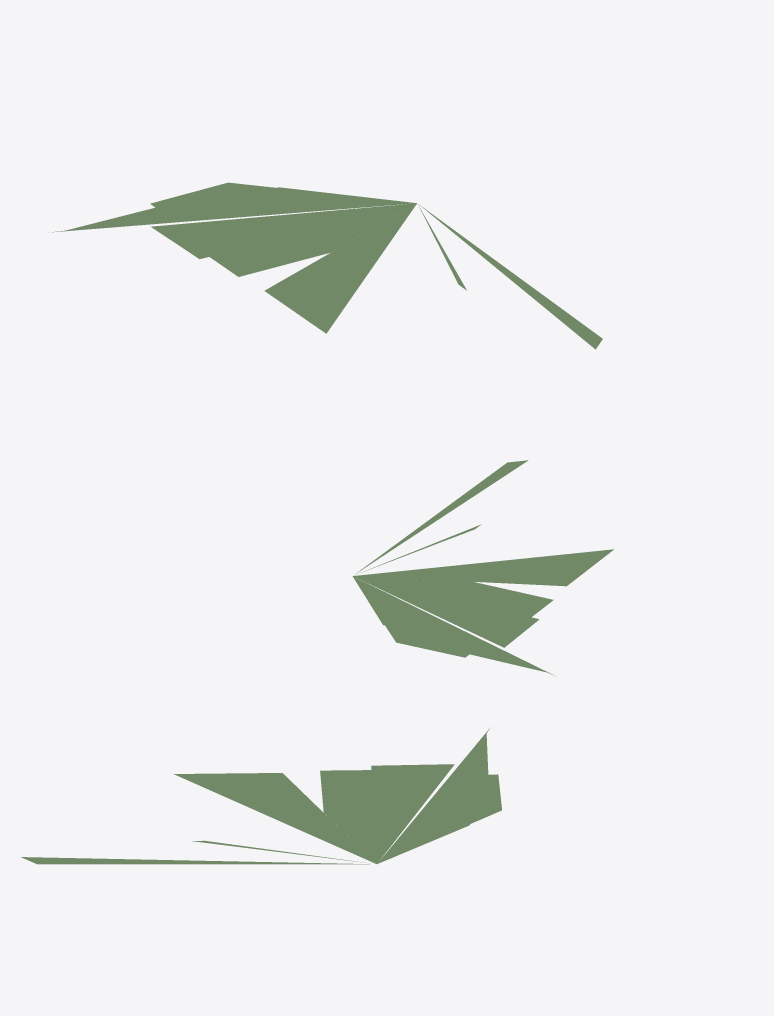
File: c_1644_17816_parks.glb
3 views of the same model, one above another, from view 1: azimuth 30°, elevation 25°; view 2: azimuth 150°, elevation 25°; view 3: azimuth 270°, elevation 25° (orthographic). The views are drawn at different scales.
Parts seen in each view (by area): view 1: geometry_0; view 2: geometry_0; view 3: geometry_0.
Part boxes in pixels (box(x1,y1,x2,y2)): geometry_0: box(49, 182, 602, 349); geometry_0: box(352, 460, 613, 675); geometry_0: box(21, 727, 501, 864).
Size of the model in its own units: 72.36 by 0 by 82.38.
